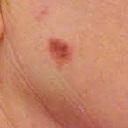Melanoma: (46, 36, 72, 61)
